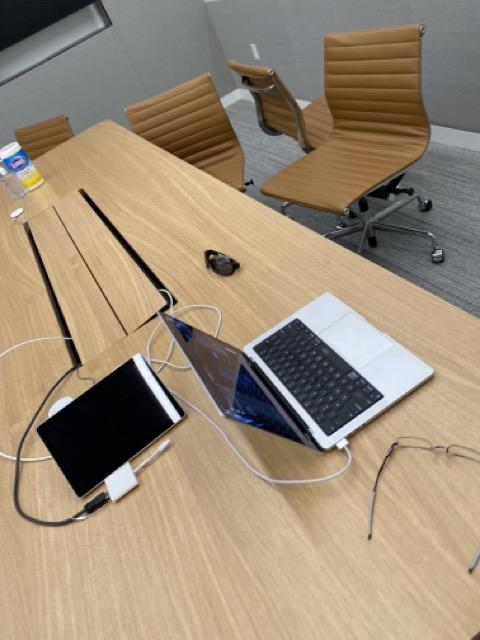Sunglasses: (205, 247, 242, 279)
